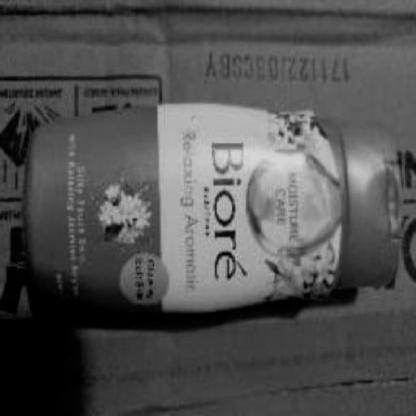objects: (34, 108, 398, 304)
